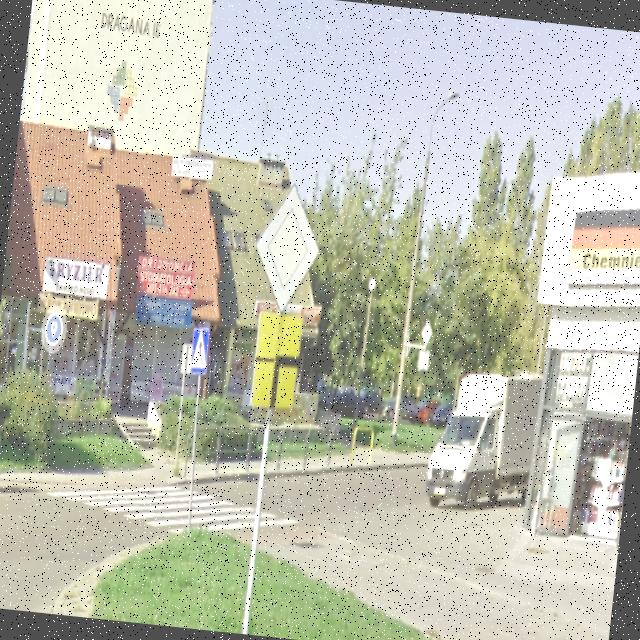Droga z pierwszenstwem: (247, 178, 326, 318)
Przejscie dla pieszych: (188, 324, 210, 376)
